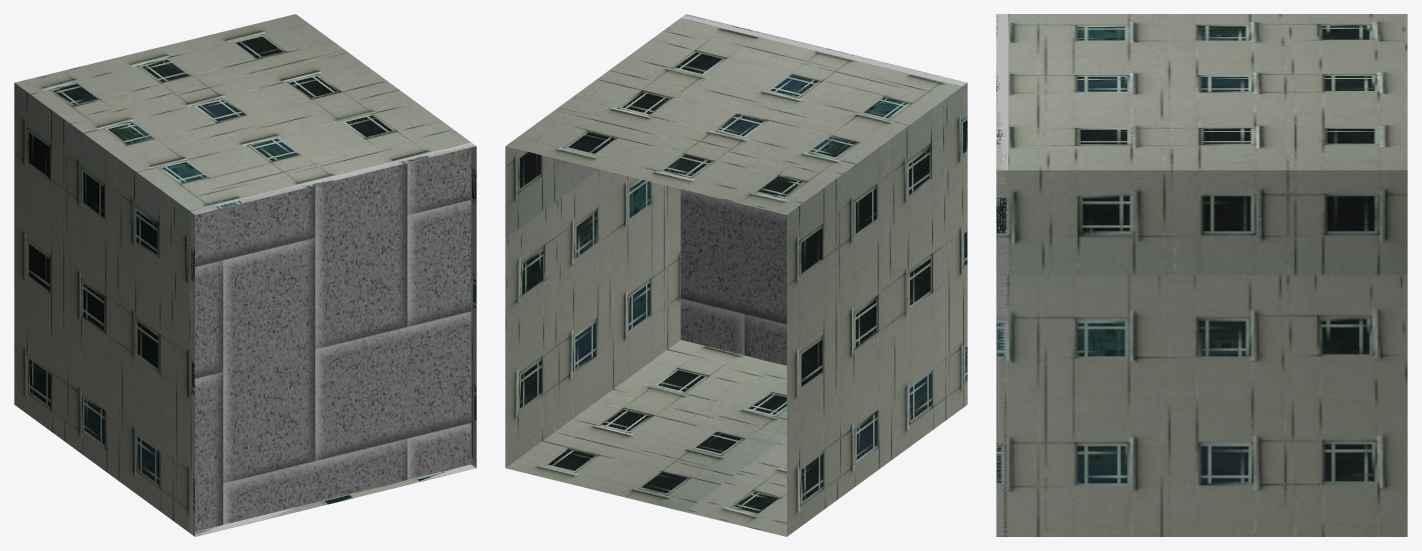
The model's file is bfbuilding3_wtf.obj.
3 renders of one model, left to right at view 1: azimuth 30°, elevation 25°; view 2: azimuth 150°, elevation 25°; view 3: azimuth 270°, elevation 25°, orthographic. The views are drawn at different scales.
Parts seen in each view (by area): view 1: group4, group3, group5; view 2: group4, group3, group5; view 3: group4, group5.
Part boxes in pixels (x1,y1,x2,y2): group4: [14, 14, 476, 536]; group3: [195, 147, 471, 531]; group5: [189, 142, 476, 536]; group4: [505, 14, 967, 536]; group3: [680, 189, 786, 365]; group5: [681, 14, 967, 404]; group4: [996, 14, 1407, 536]; group5: [996, 14, 1008, 535].
Size of the model in its own units: 593 by 649 by 660.
